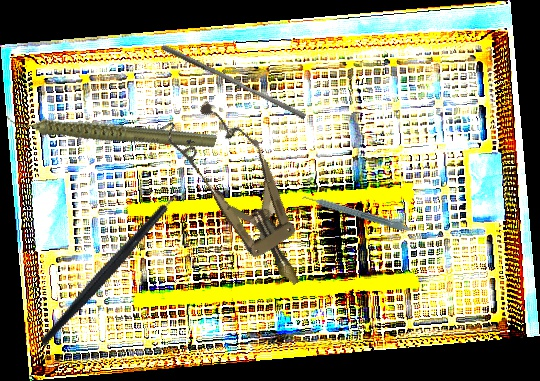Chopper: (1, 169, 224, 348)
Handpiece: (4, 67, 219, 191), (301, 188, 413, 234)
Pusher: (158, 44, 309, 120)
Speculum: (157, 88, 331, 305)
